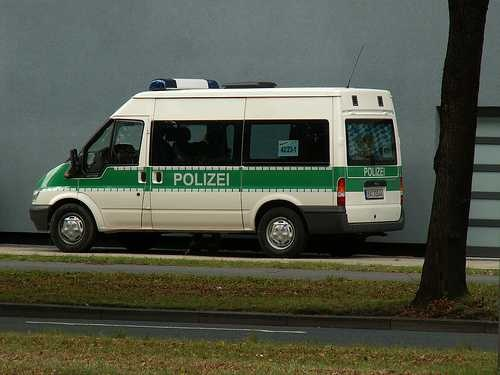Police Van: (31, 66, 427, 264)
